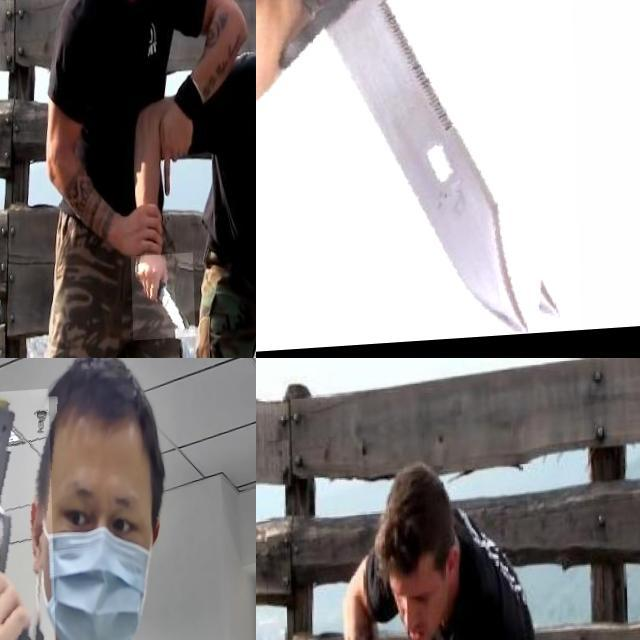-: (256, 0, 577, 356), (128, 258, 192, 345)
gun-knife-thesis - v11 Yolov5 augmented: (0, 392, 62, 640)
